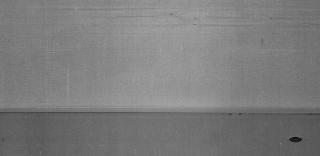punching hole: (287, 134, 307, 146)
welding line: (3, 108, 320, 123)
